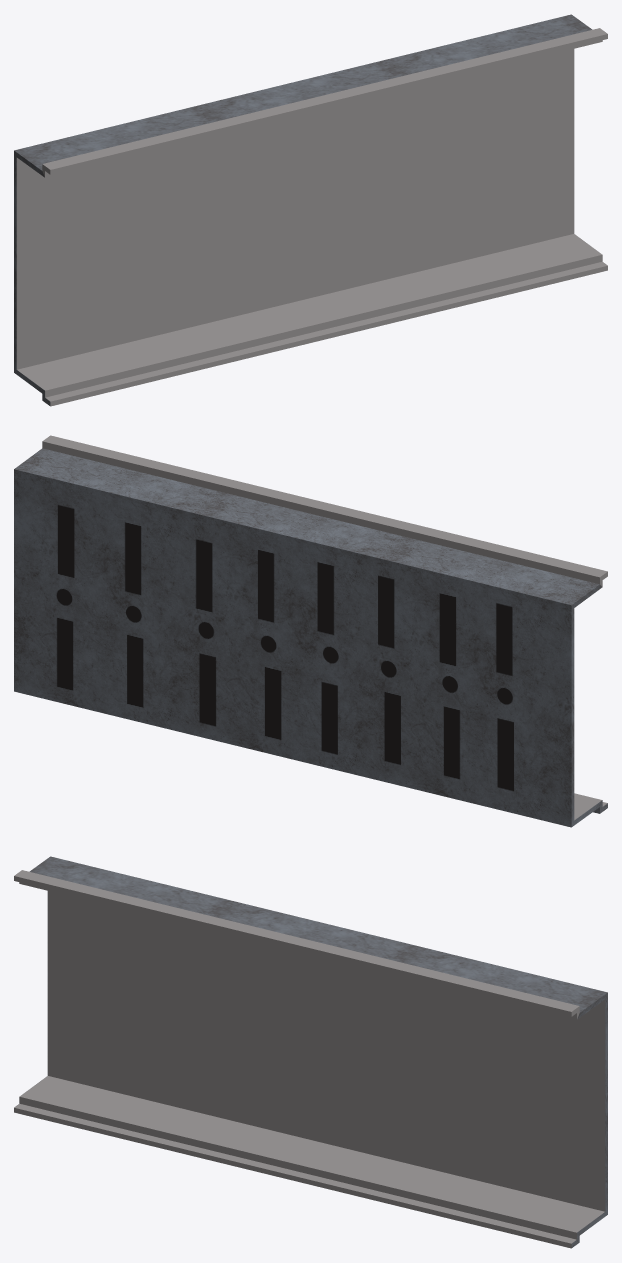
Rendered from SM_Tunnel.fbx.
3 renders of one model, top to bottom at view 1: azimuth 30°, elevation 25°; view 2: azimuth 150°, elevation 25°; view 3: azimuth 330°, elevation 25°, orthographic.
Parts seen in each view (by area): view 1: SM_Tunnel; view 2: SM_Tunnel; view 3: SM_Tunnel.
Part boxes in pixels (left/top/right/bottom): SM_Tunnel: left=14, top=14, right=607, bottom=406; SM_Tunnel: left=14, top=435, right=607, bottom=827; SM_Tunnel: left=14, top=856, right=607, bottom=1248.
Size of the model in its own units: 99.21 by 11.24 by 40.23.
1 material, 1 textured.
